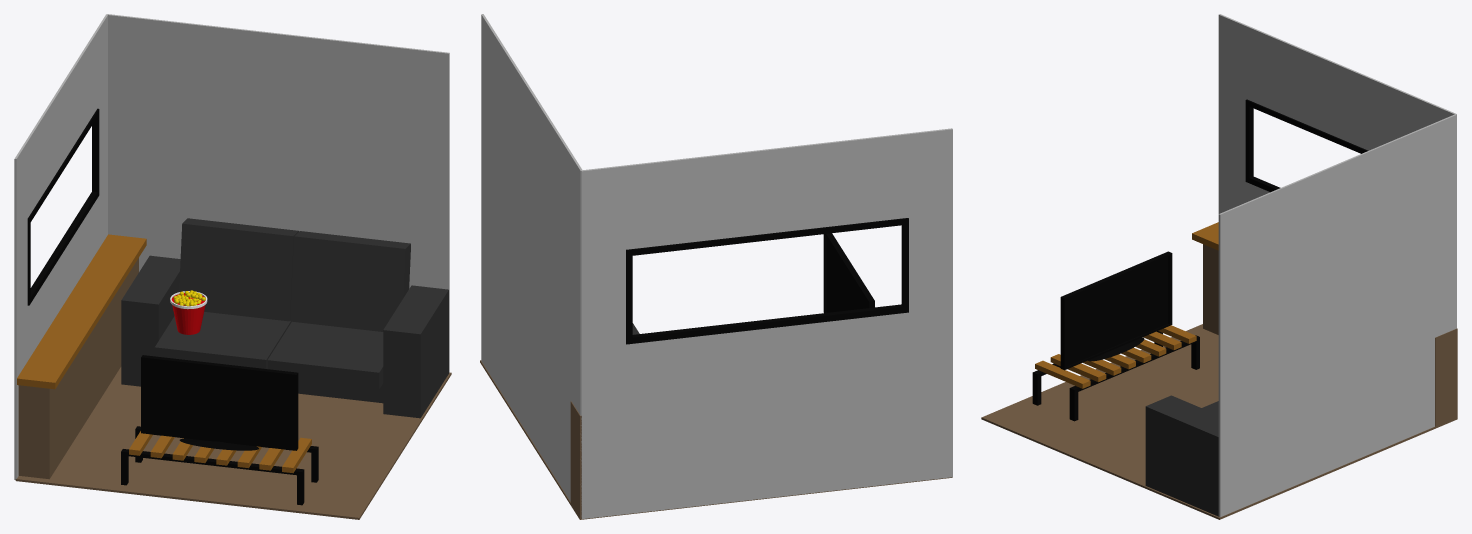
The model's file is Comfy.gltf.
3 views of the same model, side by side, from view 1: azimuth 30°, elevation 25°; view 2: azimuth 150°, elevation 25°; view 3: azimuth 270°, elevation 25° (orthographic). The views are drawn at different scales.
Visible parts, largest first — view 1: Cube.010, Cube, Cube.003, Cube.001, Cube.006, Cube.005, Cube.004, Cube.008, Cube.009, Plane, Cube.007, Cylinder (+1 smaller); view 2: Cube.001, Cube.010, Cube.009, Cube.006, Cube; view 3: Cube.010, Cube, Cube.001, Cube.006, Cube.003, Plane, Cube.009, Cube.007.
Part boxes in pixels (x1=…): Cube.010: x1=107, y1=14, x2=449, y2=372; Cube: x1=15, y1=258, x2=451, y2=519; Cube.003: x1=121, y1=255, x2=448, y2=418; Cube.001: x1=14, y1=14, x2=107, y2=479; Cube.006: x1=141, y1=355, x2=298, y2=450; Cube.005: x1=290, y1=231, x2=410, y2=331; Cube.004: x1=179, y1=218, x2=298, y2=321; Cube.008: x1=17, y1=234, x2=146, y2=389; Cube.009: x1=27, y1=108, x2=99, y2=305; Plane: x1=129, y1=431, x2=311, y2=473; Cube.007: x1=121, y1=426, x2=318, y2=505; Cylinder: x1=171, y1=293, x2=205, y2=334; Cube.001: x1=581, y1=128, x2=952, y2=518; Cube.010: x1=481, y1=14, x2=582, y2=501; Cube.009: x1=626, y1=218, x2=908, y2=344; Cube.006: x1=823, y1=233, x2=874, y2=313; Cube: x1=480, y1=360, x2=952, y2=519; Cube.010: x1=1218, y1=114, x2=1456, y2=517; Cube: x1=981, y1=244, x2=1457, y2=519; Cube.001: x1=1218, y1=14, x2=1456, y2=213; Cube.006: x1=1060, y1=251, x2=1172, y2=370; Cube.003: x1=1145, y1=395, x2=1218, y2=516; Plane: x1=1035, y1=325, x2=1196, y2=388; Cube.009: x1=1245, y1=99, x2=1368, y2=192; Cube.007: x1=1032, y1=331, x2=1199, y2=421.
Size of the model in its own units: 45.55 by 32.1 by 45.48.
